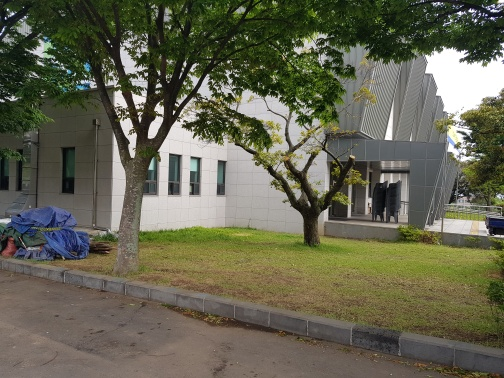Gym: (4, 90, 495, 243), (329, 38, 461, 241)
